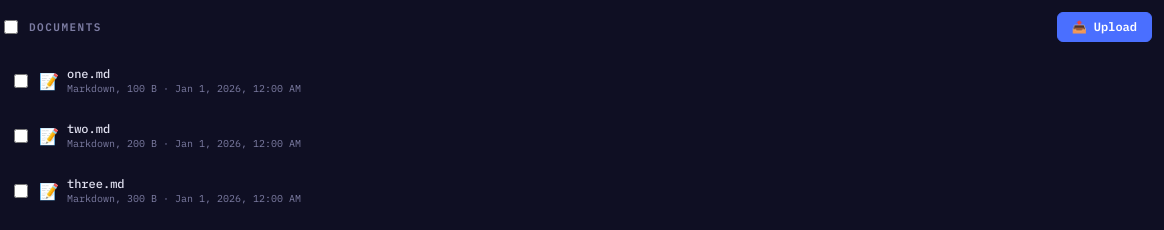
it: DocumentList - bulk delete › toggle all checkbox selects/deselects all documents
The image size is (1164, 230).
Click the checkbox next to "DOCUMENTS" at (11,27), box [4,20,18,34]
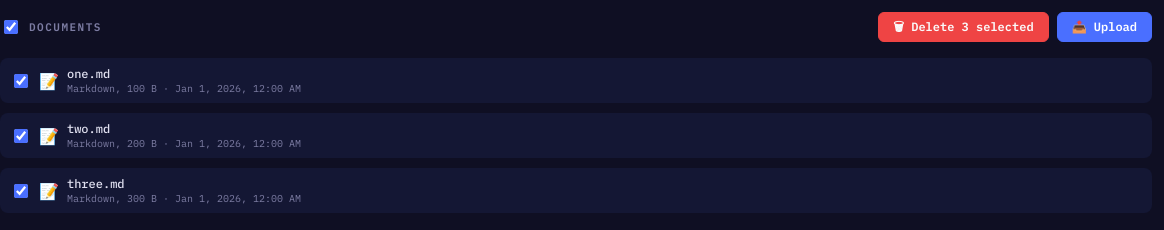
Check: the checkbox next to "one.md" is checked, box [14,74,28,88]
Check: the checkbox next to "two.md" is checked, box [14,128,28,142]
Check: the checkbox next to "three.md" is checked, box [14,184,28,198]
Click the checkbox next to "DOCUMENTS" at (11,27), box [4,20,18,34]
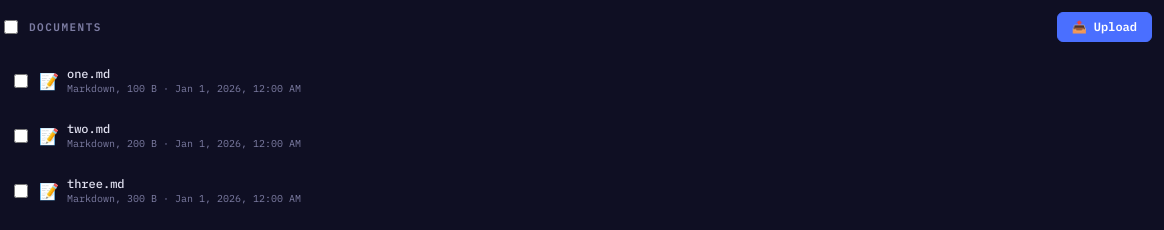
Check: the checkbox next to "one.md" is not checked, box [14,74,28,88]
Check: the checkbox next to "two.md" is not checked, box [14,128,28,142]
Check: the checkbox next to "three.md" is not checked, box [14,184,28,198]
